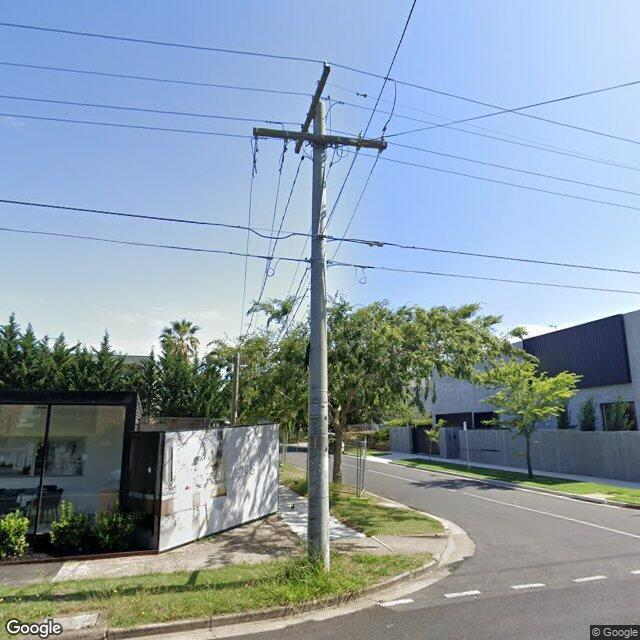concrete-pole: (307, 100, 329, 576)
crossarm: (253, 126, 389, 167), (295, 60, 331, 154)
